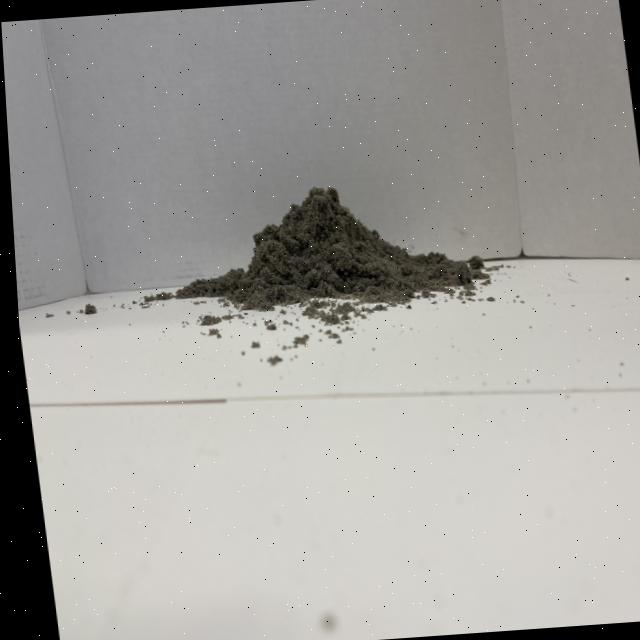sand: (180, 164, 450, 320)
